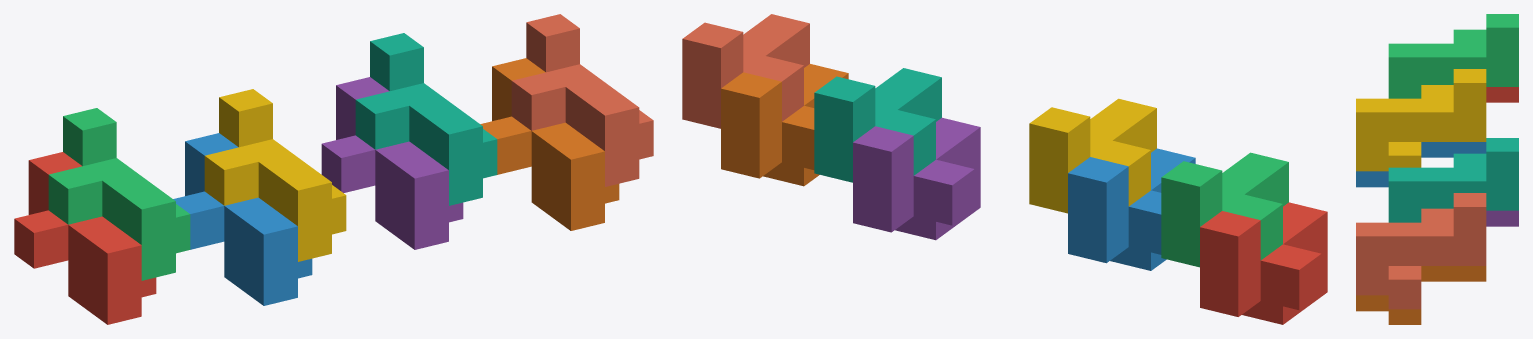
File: tiling.obj
3 views of the same model, side by side, from view 1: azimuth 30°, elevation 25°; view 2: azimuth 150°, elevation 25°; view 3: azimuth 270°, elevation 25° (orthographic). The views are drawn at different scales.
Parts seen in each view (by area): view 1: copy_1_domain_3, copy_1_domain_8, copy_1_domain_4, copy_1_domain_7, copy_1_domain_1, copy_1_domain_5, copy_1_domain_2, copy_1_domain_6; view 2: copy_1_domain_1, copy_1_domain_5, copy_1_domain_4, copy_1_domain_7, copy_1_domain_3, copy_1_domain_8, copy_1_domain_6, copy_1_domain_2; view 3: copy_1_domain_8, copy_1_domain_4, copy_1_domain_3, copy_1_domain_7, copy_1_domain_6, copy_1_domain_2, copy_1_domain_5, copy_1_domain_1.
Boxes of the visible parts, left/top/right/bottom form: copy_1_domain_3: left=48, top=108, right=190, bottom=280; copy_1_domain_8: left=511, top=14, right=653, bottom=186; copy_1_domain_4: left=204, top=89, right=346, bottom=261; copy_1_domain_7: left=355, top=33, right=497, bottom=205; copy_1_domain_1: left=14, top=152, right=156, bottom=324; copy_1_domain_5: left=321, top=77, right=463, bottom=249; copy_1_domain_2: left=173, top=133, right=312, bottom=305; copy_1_domain_6: left=480, top=58, right=619, bottom=230; copy_1_domain_1: left=1200, top=202, right=1327, bottom=324; copy_1_domain_5: left=853, top=117, right=980, bottom=240; copy_1_domain_4: left=1029, top=98, right=1156, bottom=213; copy_1_domain_7: left=814, top=68, right=941, bottom=182; copy_1_domain_3: left=1161, top=152, right=1288, bottom=267; copy_1_domain_8: left=682, top=14, right=809, bottom=128; copy_1_domain_6: left=721, top=64, right=848, bottom=186; copy_1_domain_2: left=1068, top=148, right=1195, bottom=270; copy_1_domain_8: left=1356, top=193, right=1486, bottom=309; copy_1_domain_4: left=1356, top=69, right=1486, bottom=171; copy_1_domain_3: left=1388, top=14, right=1518, bottom=98; copy_1_domain_7: left=1388, top=138, right=1518, bottom=222; copy_1_domain_6: left=1356, top=266, right=1486, bottom=324; copy_1_domain_2: left=1356, top=142, right=1486, bottom=187; copy_1_domain_5: left=1486, top=210, right=1518, bottom=226; copy_1_domain_1: left=1486, top=87, right=1518, bottom=102.
Size of the model in its own units: 17 by 4 by 5.
